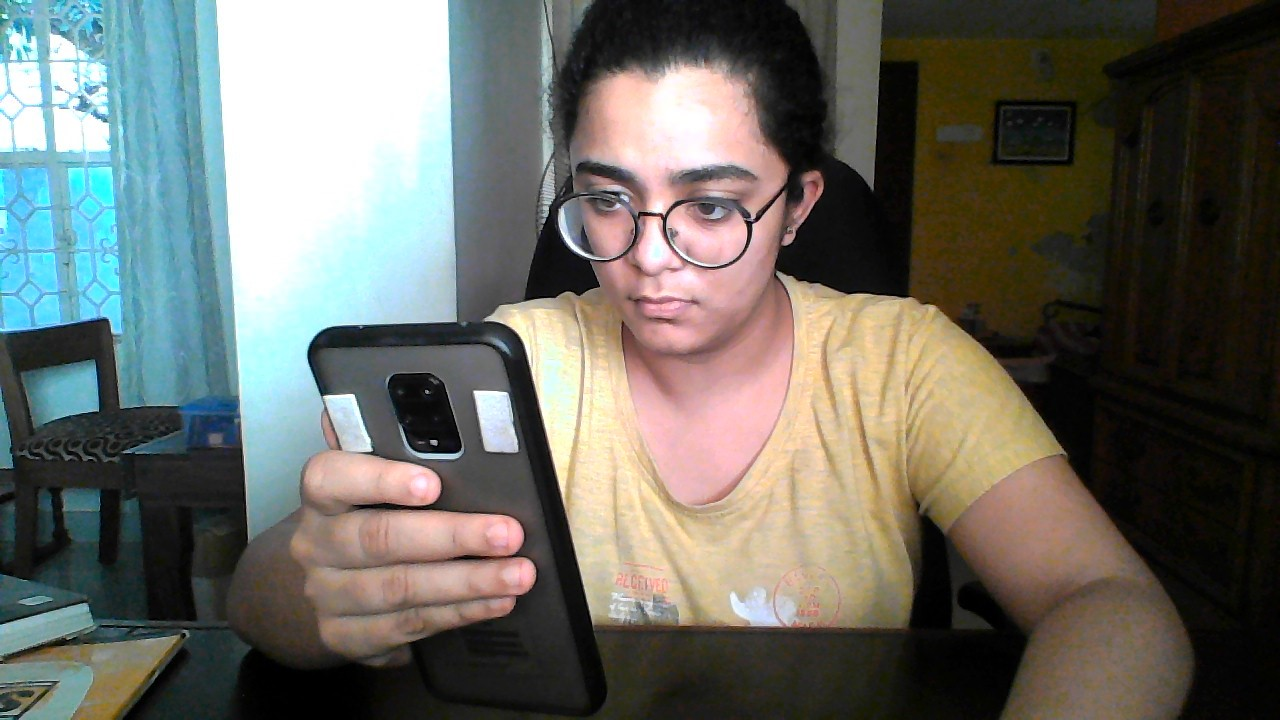mobile phone: (263, 256, 645, 720)
person: (523, 3, 941, 411)
